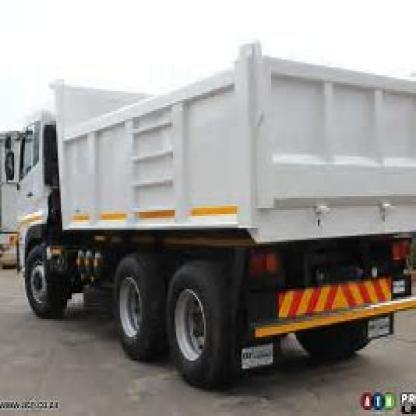dump_truck: (5, 44, 414, 390)
